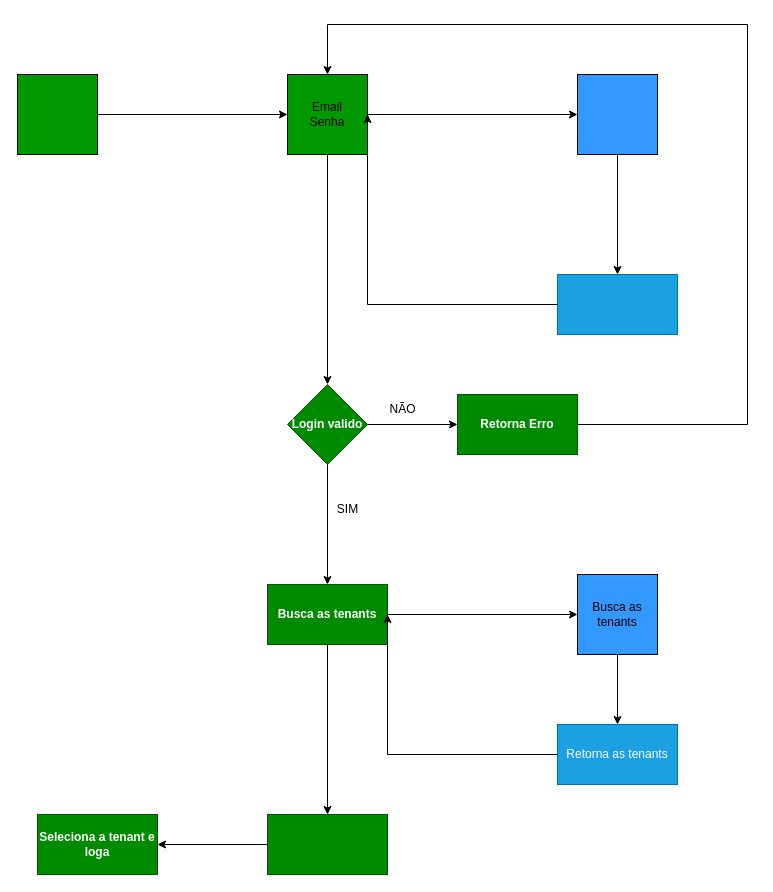
Image size: 773x892. Some labels were removed from this diagram. The centre of each missing label's shape, as x and y in pixels:
LOGIN: [57,114]
Retorna Login: [617,304]
Usuário escolhe as tenants: [327,844]
Valida Email e senha: [617,114]
